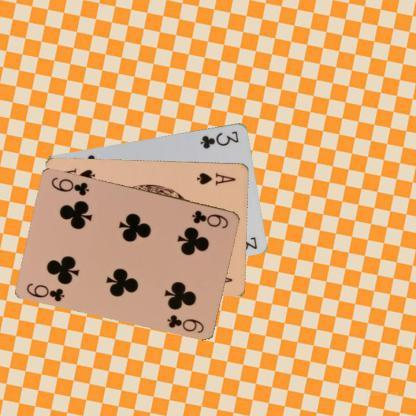3c: (198, 128, 240, 150)
6c: (24, 280, 66, 303), (189, 207, 230, 230)
As: (194, 170, 238, 186)
